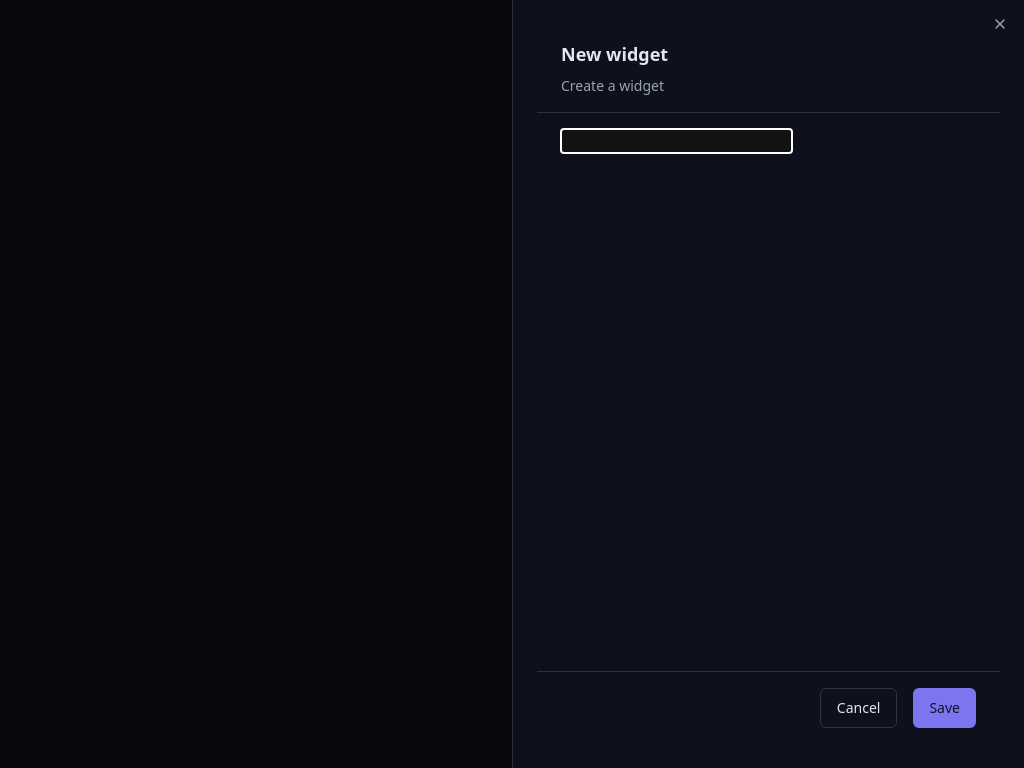
Test case: CrudDrawer › blocks submit when zod validation fails
The image size is (1024, 768).
Click the button "Save" at (945, 708), box 913,688 -> 976,728
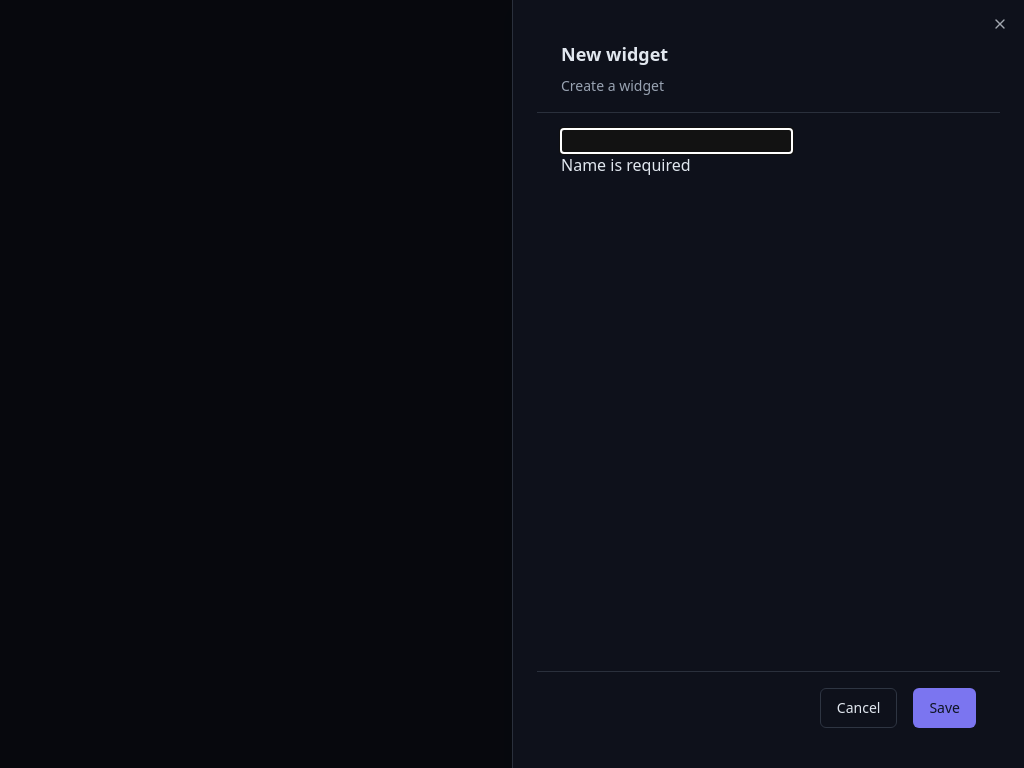
Now the text "Name is required" is shown, box 561,154 -> 691,176
